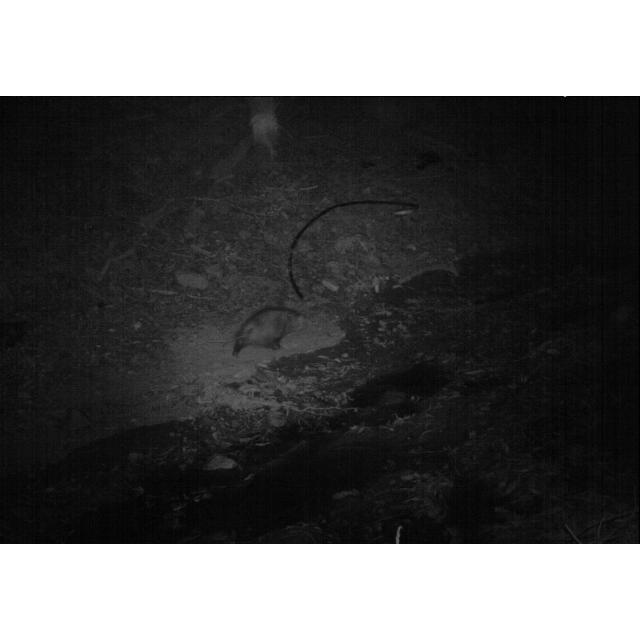animals: (230, 302, 306, 358)
